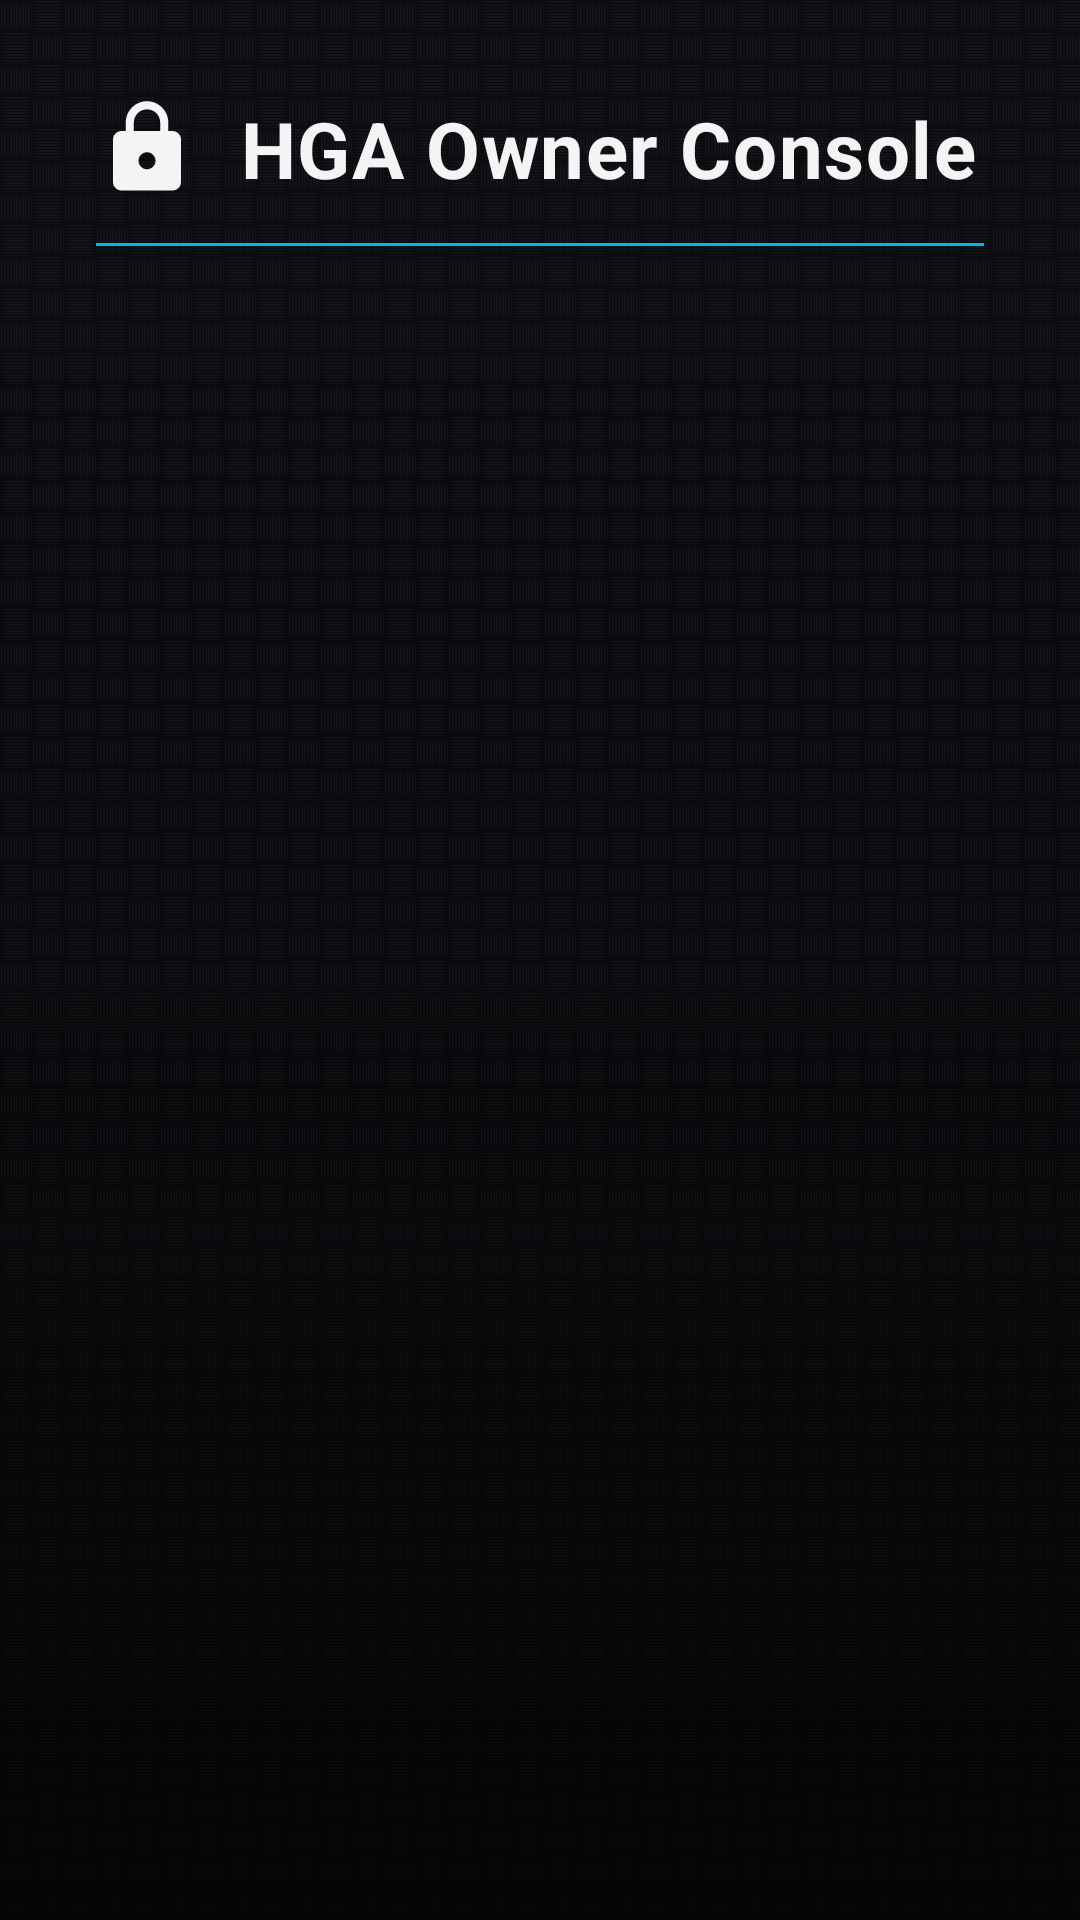

Point at icon controls on the screen. Image size 1080 x 1920, points as (x=x, y=y).
lock: (x=147, y=146)
